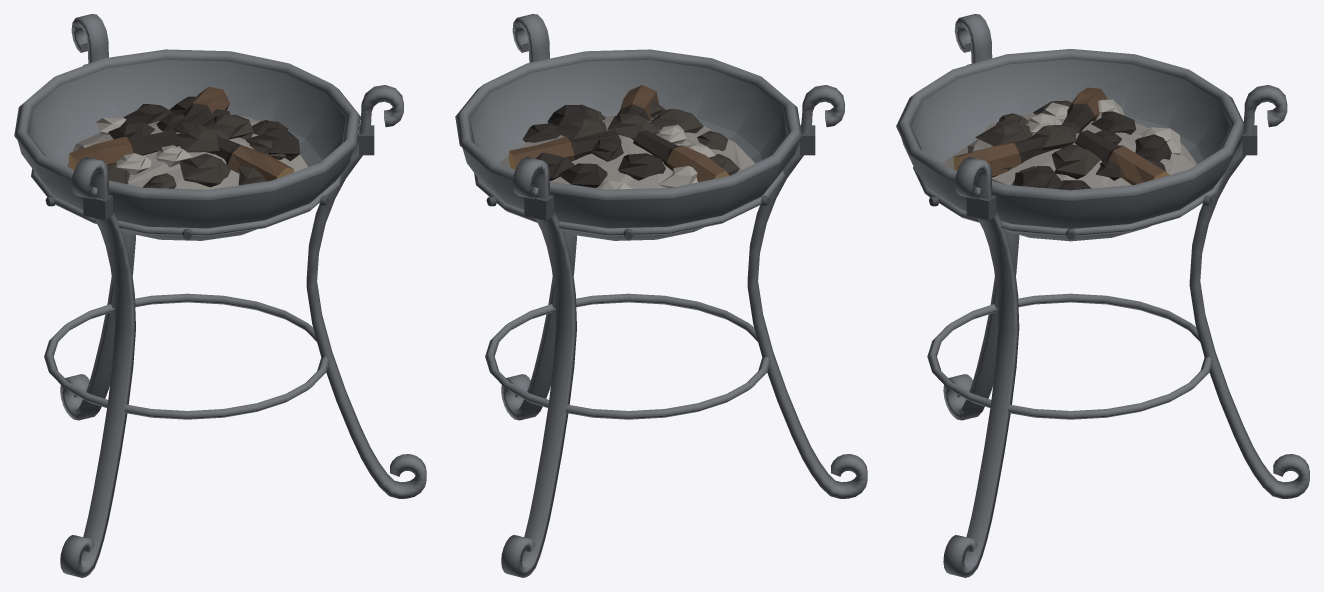
File: SM_LPD_Light_BrazierTripodUnlit_01.fbx
3 views of the same model, side by side, from view 1: azimuth 30°, elevation 25°; view 2: azimuth 150°, elevation 25°; view 3: azimuth 270°, elevation 25° (orthographic).
Parts seen in each view (by area): view 1: SM_LPD_Light_BrazierTripodUnlit_01; view 2: SM_LPD_Light_BrazierTripodUnlit_01; view 3: SM_LPD_Light_BrazierTripodUnlit_01.
Part boxes in pixels (x1=…): SM_LPD_Light_BrazierTripodUnlit_01: x1=14, y1=14, x2=426, y2=577; SM_LPD_Light_BrazierTripodUnlit_01: x1=455, y1=14, x2=867, y2=577; SM_LPD_Light_BrazierTripodUnlit_01: x1=896, y1=14, x2=1309, y2=577.
Bounding box in the file's own units: 0.8328 × 0.8826 × 0.8145.
